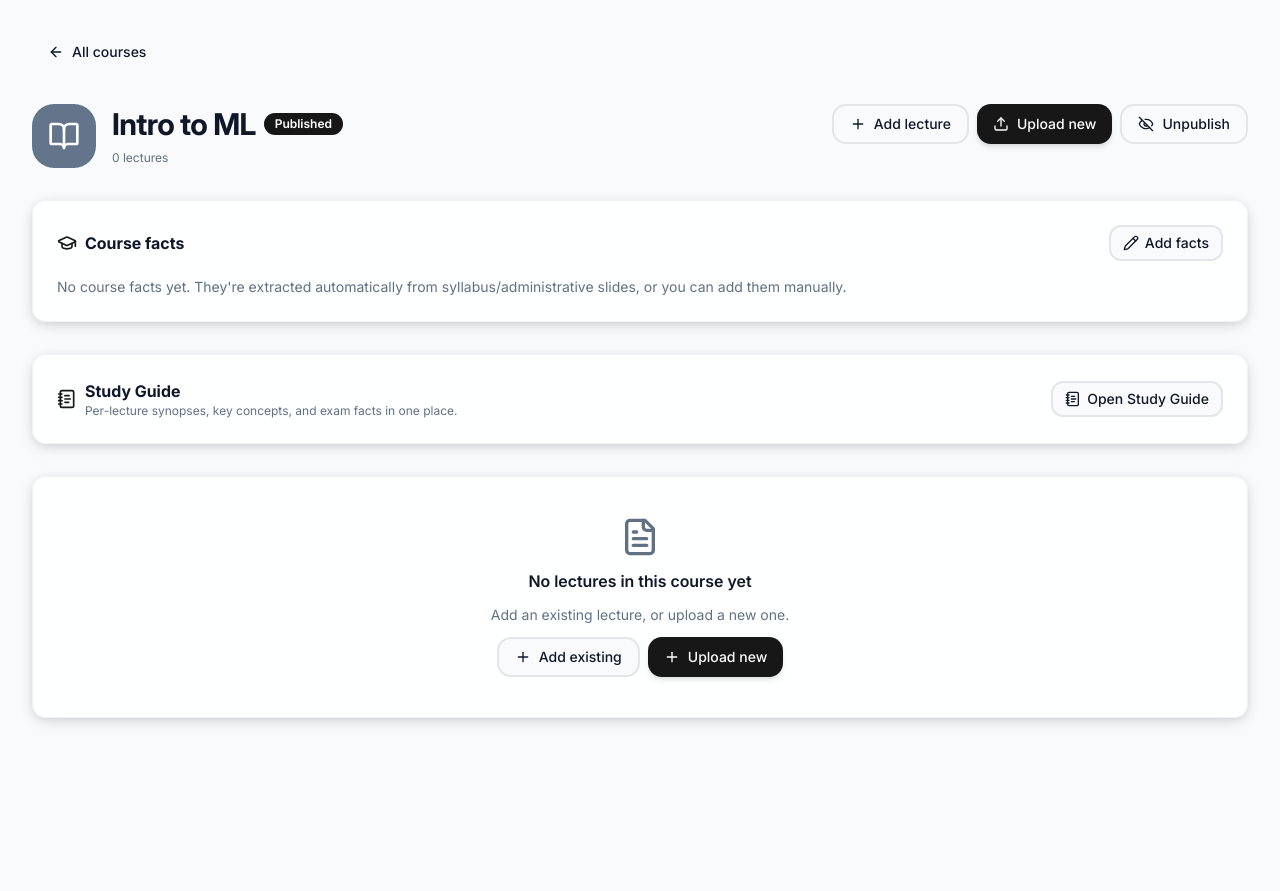
Scenario: ProfessorCourseDetail — Course facts card › edits and saves the instructor field
This screenshot has width=1280, height=891.
Expected: the element with test id "course-facts-card" is shown, [32,200,1248,322]
Click the button with test id "course-facts-edit" at (1166, 243), box [1109,225,1223,261]
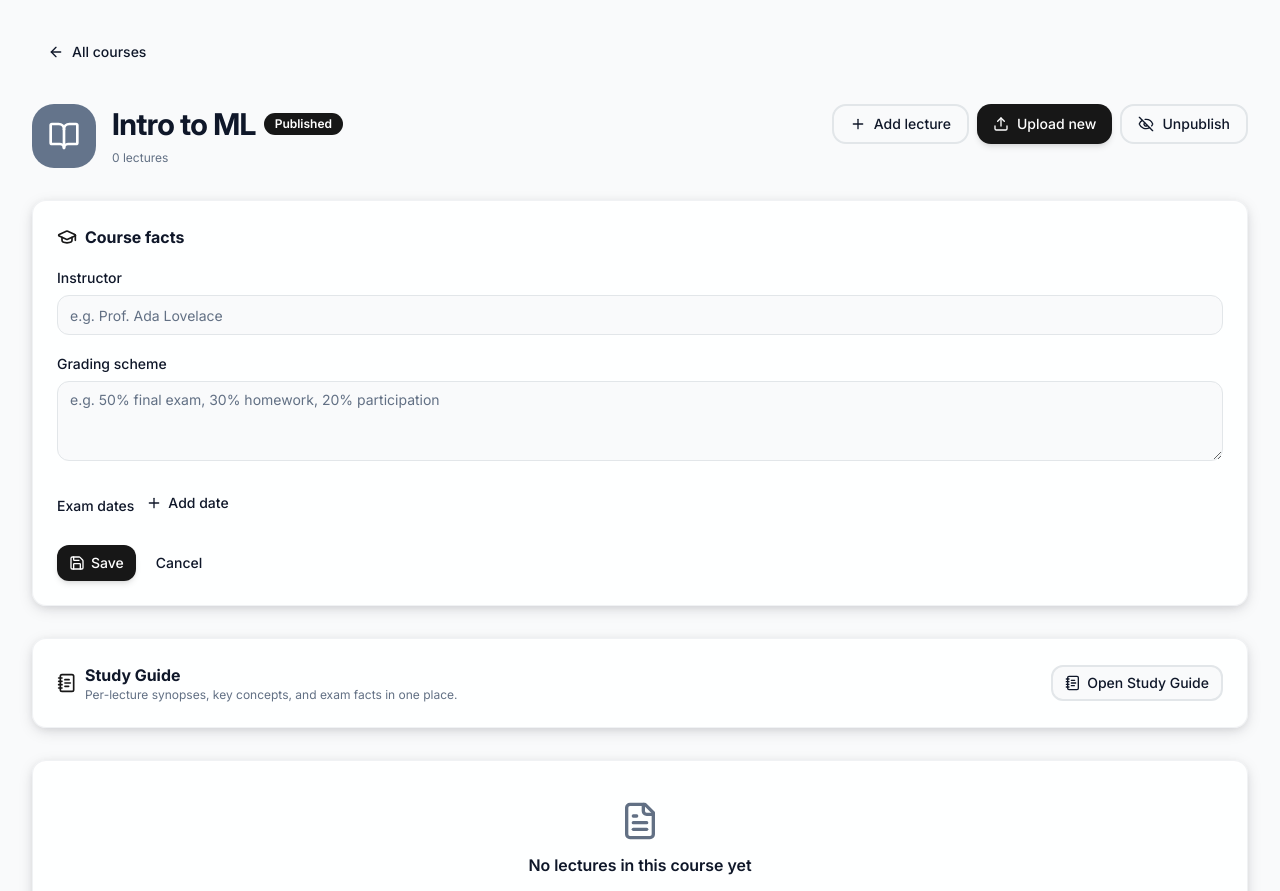
Type "Dr. Grace" into the field labelled "Instructor" at (640, 315), box [57,295,1223,335]
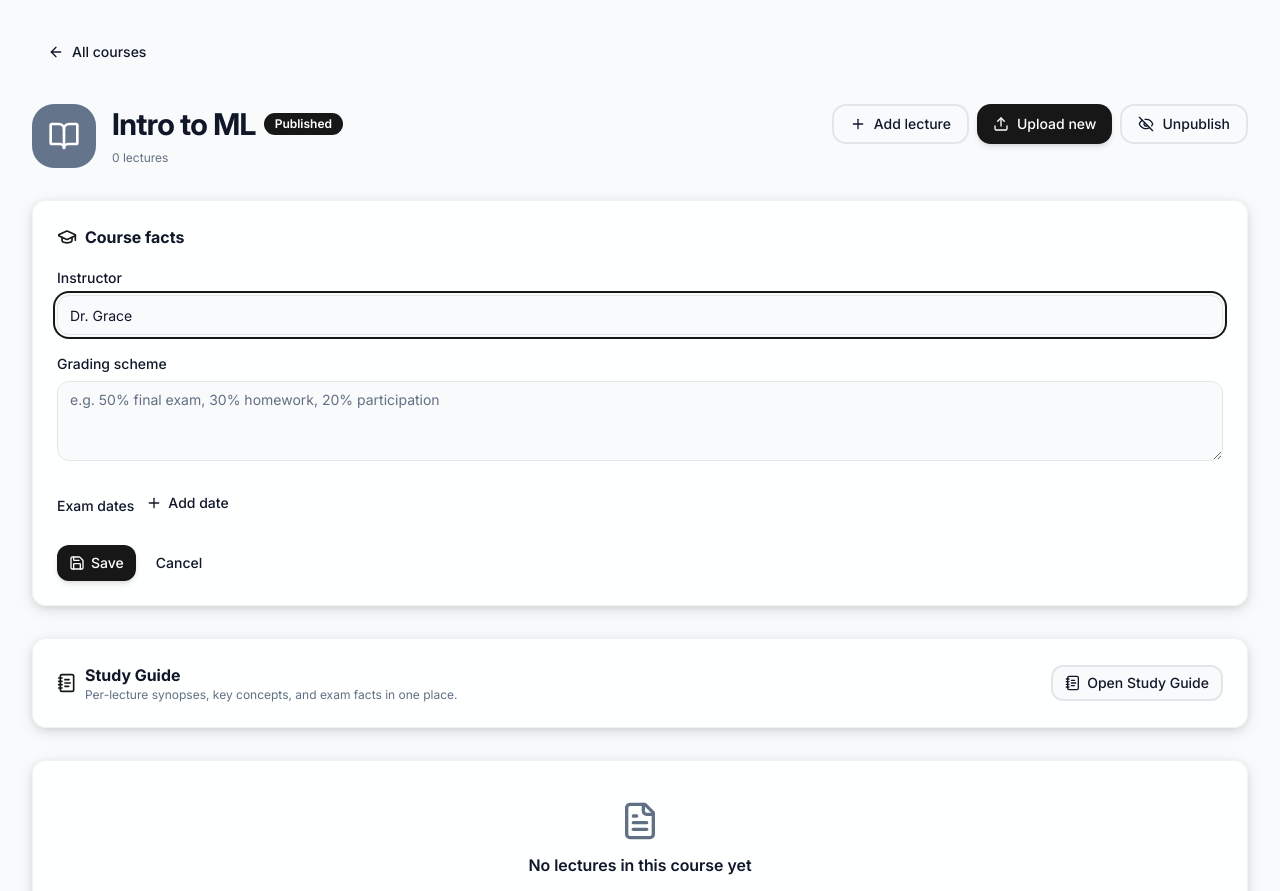
Click the button with test id "course-facts-save" at (96, 563), box [57,545,136,581]
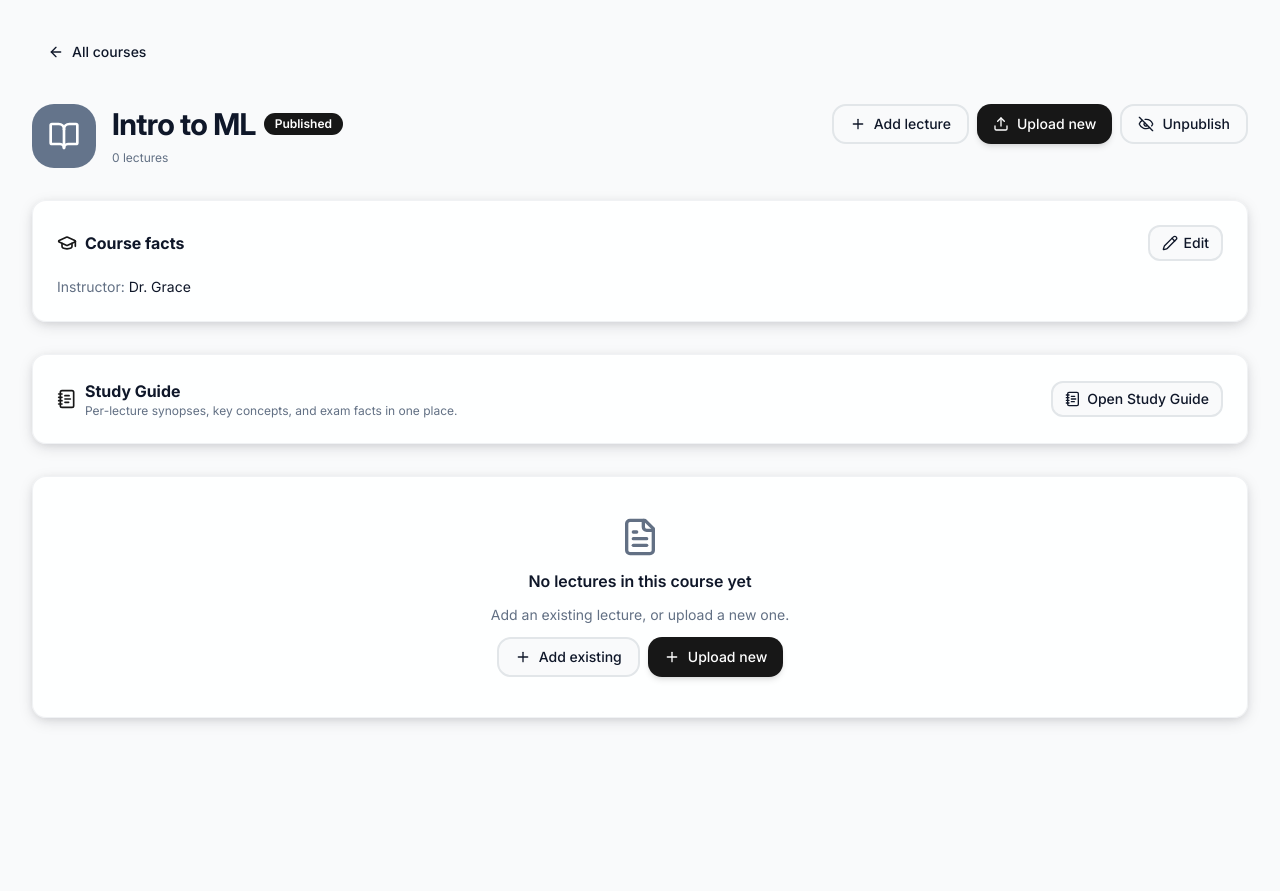
Expected: the text "Instructor: Dr. Grace" is shown, [57,278,191,295]
